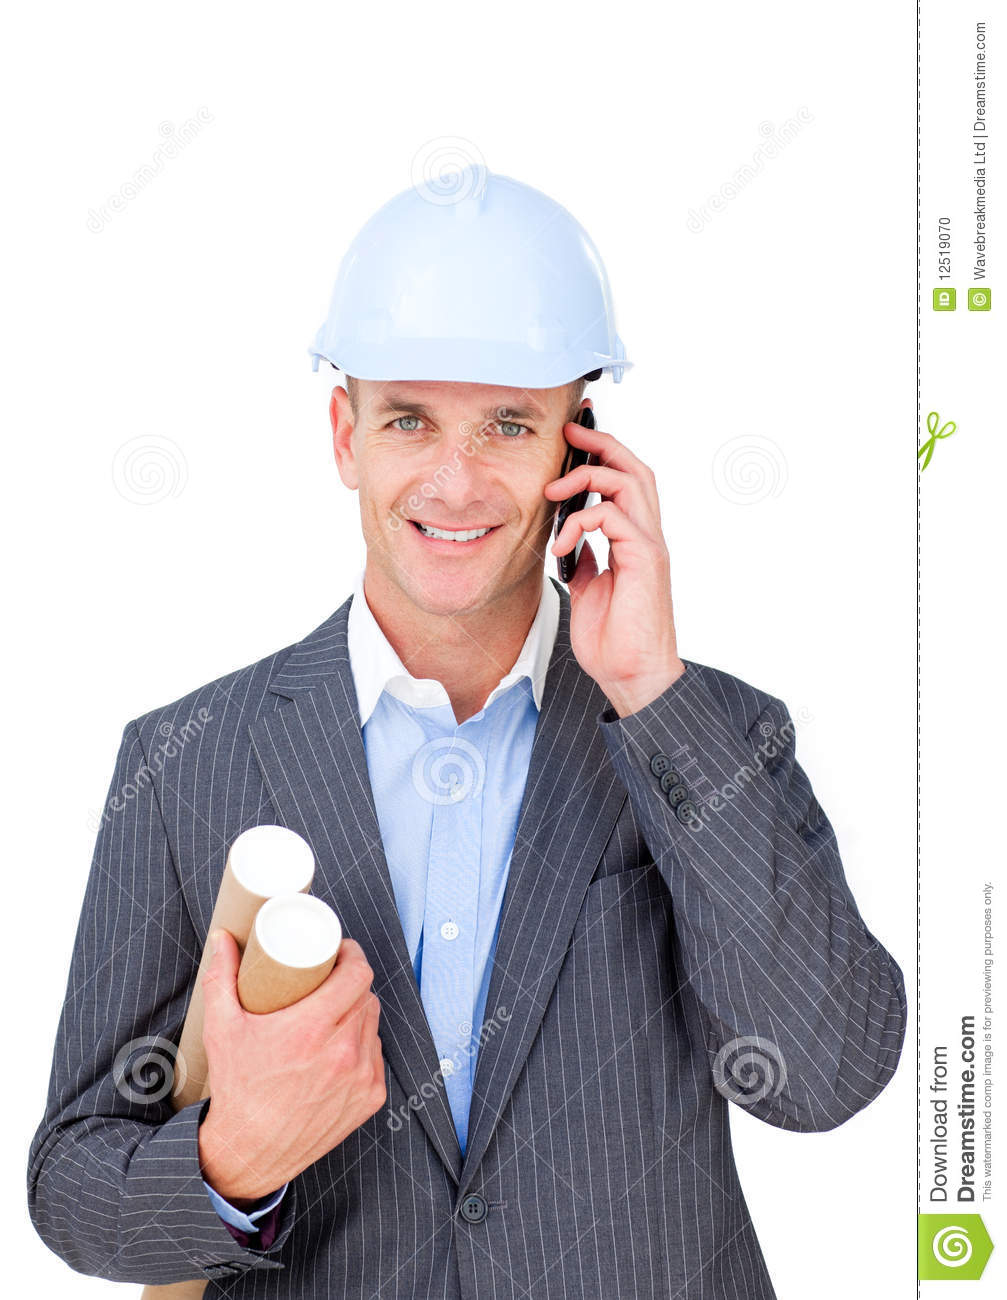phone: (551, 400, 608, 589)
talk: (367, 391, 685, 692)
